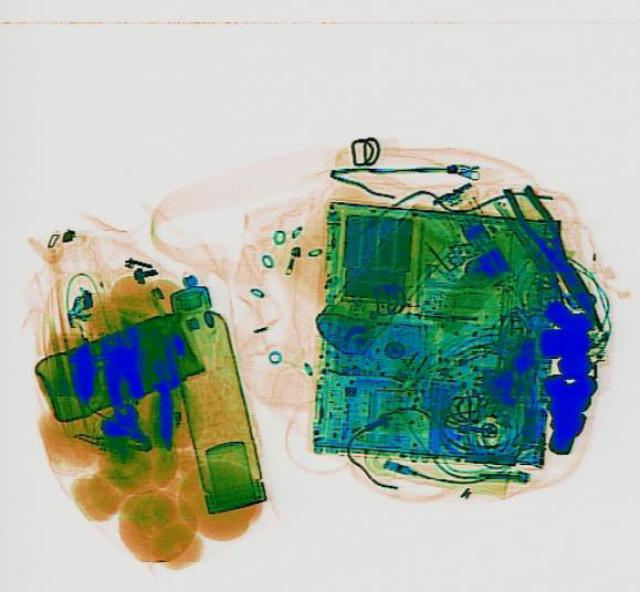Pliers: (498, 175, 614, 333)
